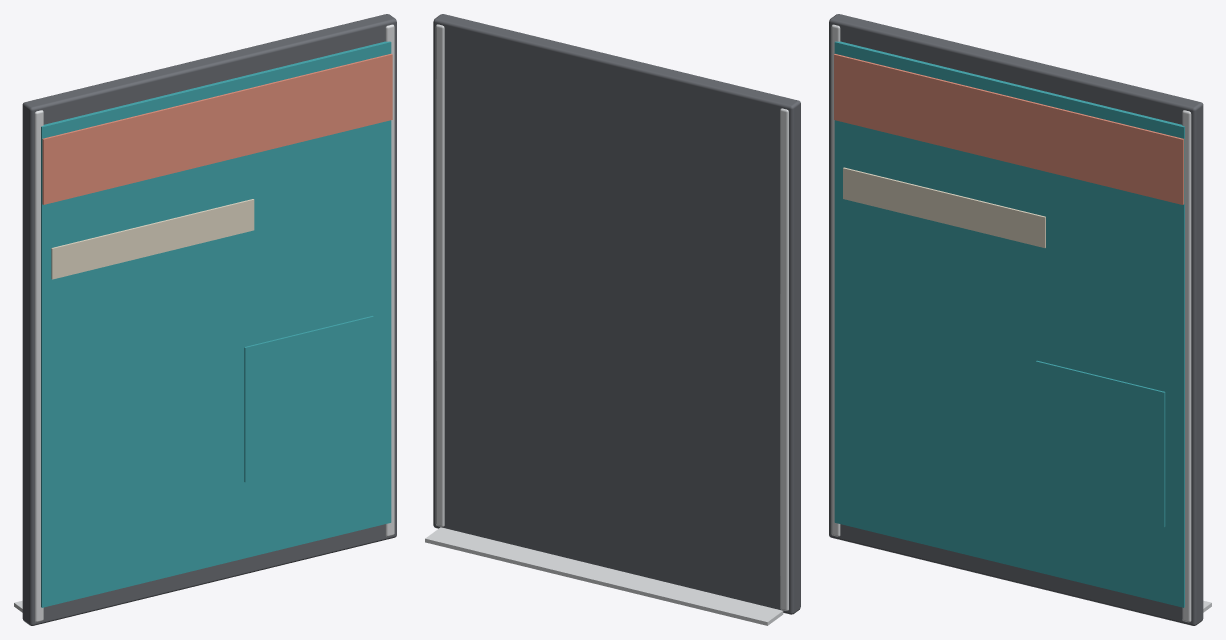
File: public-aquarium-and-marine-centre-wall-graphic-panel-a5dfb6e6.glb
3 views of the same model, side by side, from view 1: azimuth 30°, elevation 25°; view 2: azimuth 150°, elevation 25°; view 3: azimuth 330°, elevation 25° (orthographic).
Parts seen in each view (by area): view 1: wall-graphic-panel; view 2: wall-graphic-panel; view 3: wall-graphic-panel.
Part boxes in pixels (x1=…): wall-graphic-panel: x1=14, y1=14, x2=396, y2=625; wall-graphic-panel: x1=425, y1=14, x2=800, y2=625; wall-graphic-panel: x1=829, y1=14, x2=1211, y2=625.
Size of the model in its own units: 2 by 2.7 by 0.276.
